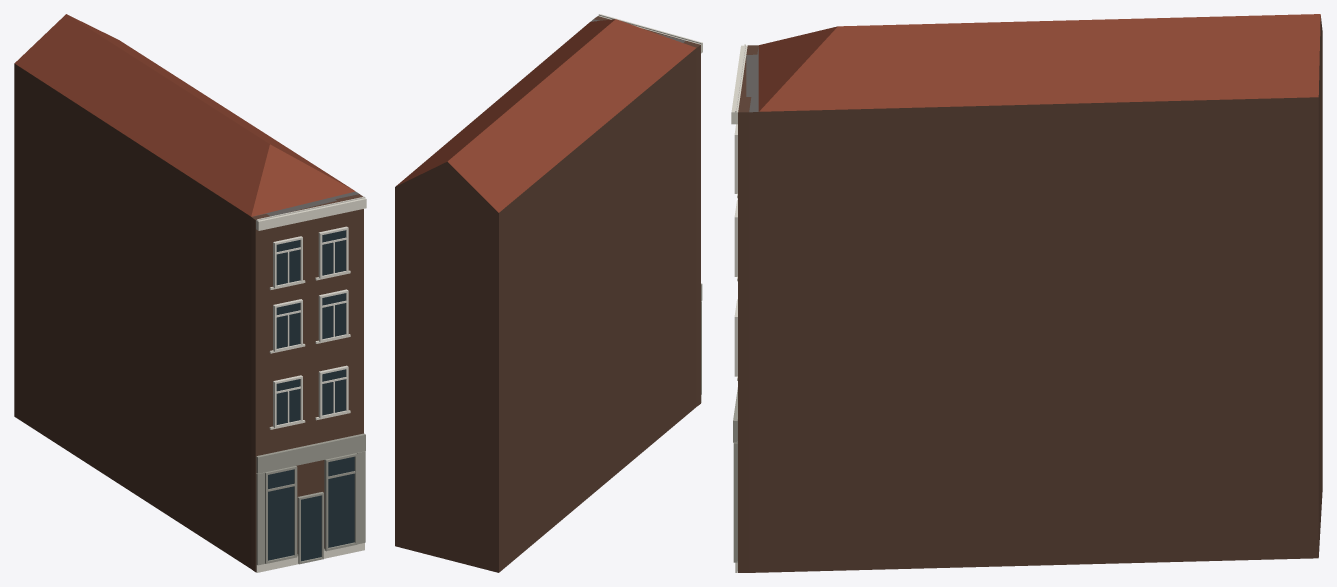
3 views of the same model, side by side, from view 1: azimuth 30°, elevation 25°; view 2: azimuth 150°, elevation 25°; view 3: azimuth 270°, elevation 25° (orthographic). The views are drawn at different scales.
Parts seen in each view (by area): view 1: spec-0363100012172756; view 2: spec-0363100012172756; view 3: spec-0363100012172756.
Part boxes in pixels (left/top/right/bottom): spec-0363100012172756: left=14, top=14, right=366, bottom=572; spec-0363100012172756: left=395, top=14, right=702, bottom=572; spec-0363100012172756: left=731, top=14, right=1322, bottom=572.
Size of the model in its own units: 5 by 14.78 by 15.49.
